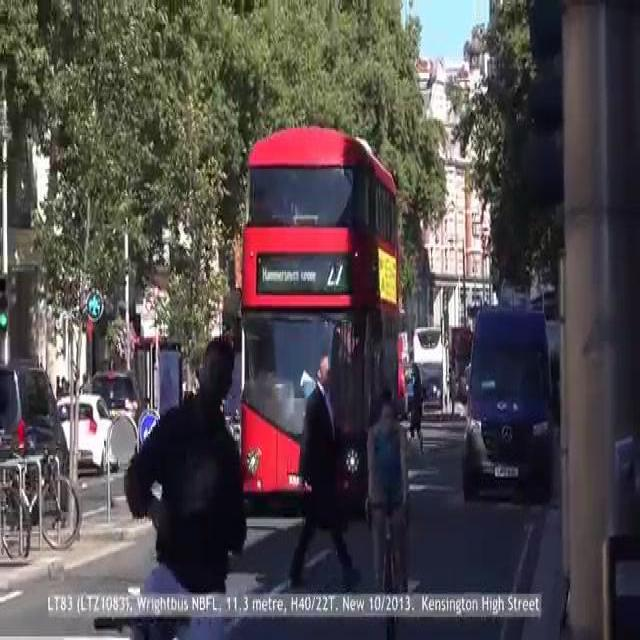motorcycle: (234, 112, 407, 507)
